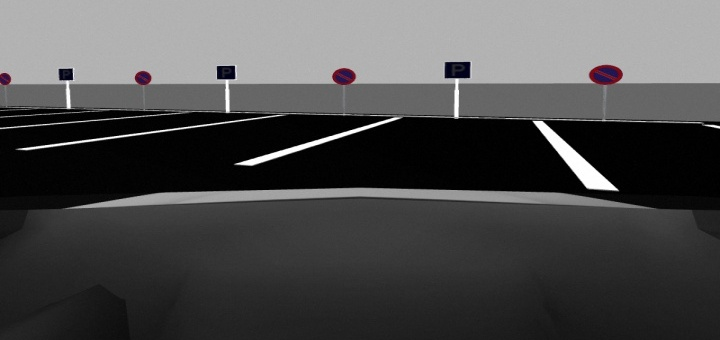park: (442, 60, 473, 82), (215, 61, 239, 82)
park_yapilmaz: (589, 63, 624, 88), (332, 66, 359, 88)
